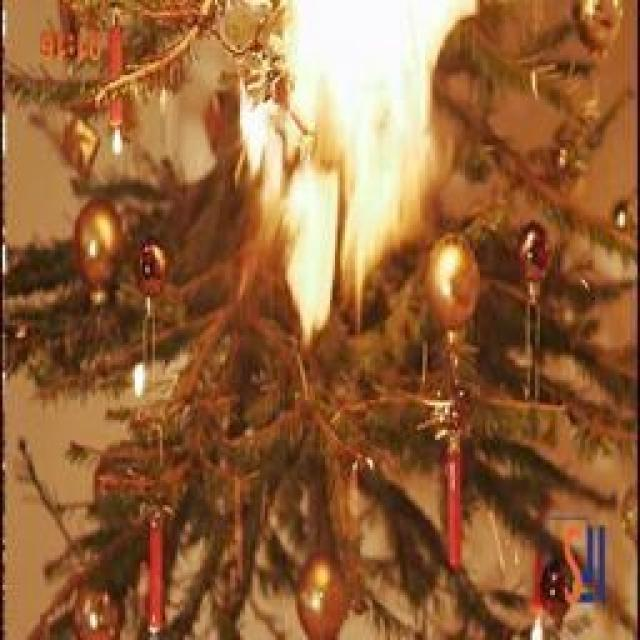fire: (217, 0, 500, 342)
